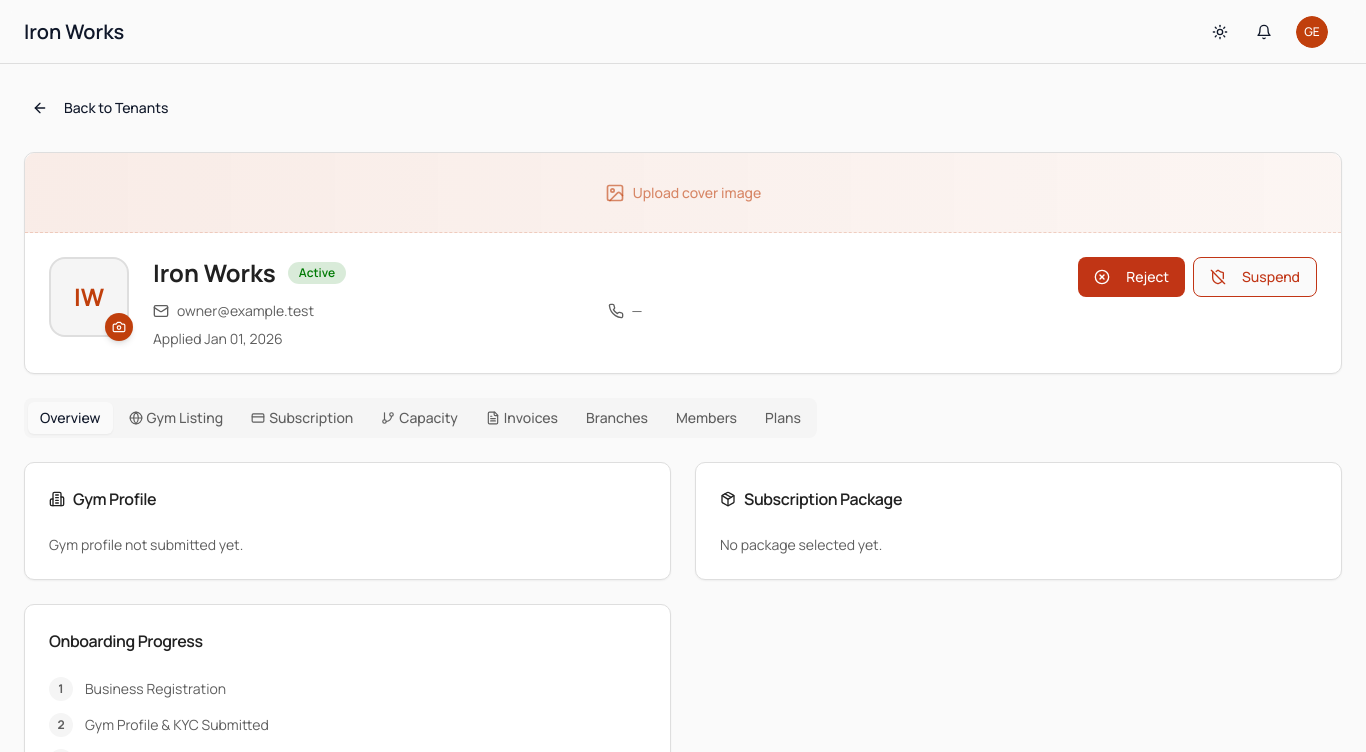
Test case: Admin tenant detail fetches only the open tab (UX-17, PERF-10) › opening Subscription shows the history from the shared cache and refreshes only that list
Press the mouse on the tab "Subscription" at [302, 418], box [239, 402, 365, 434]
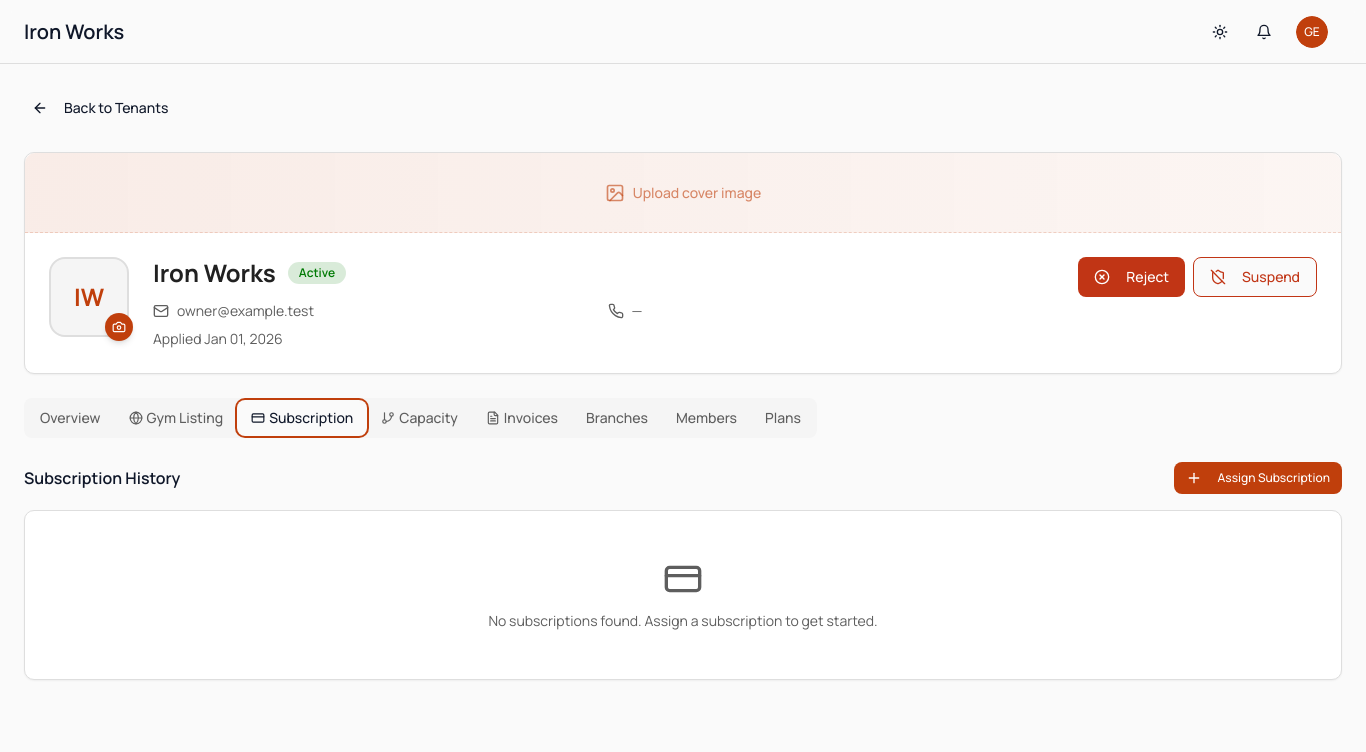
Now the heading "Subscription History" is shown, box [24, 466, 180, 490]
